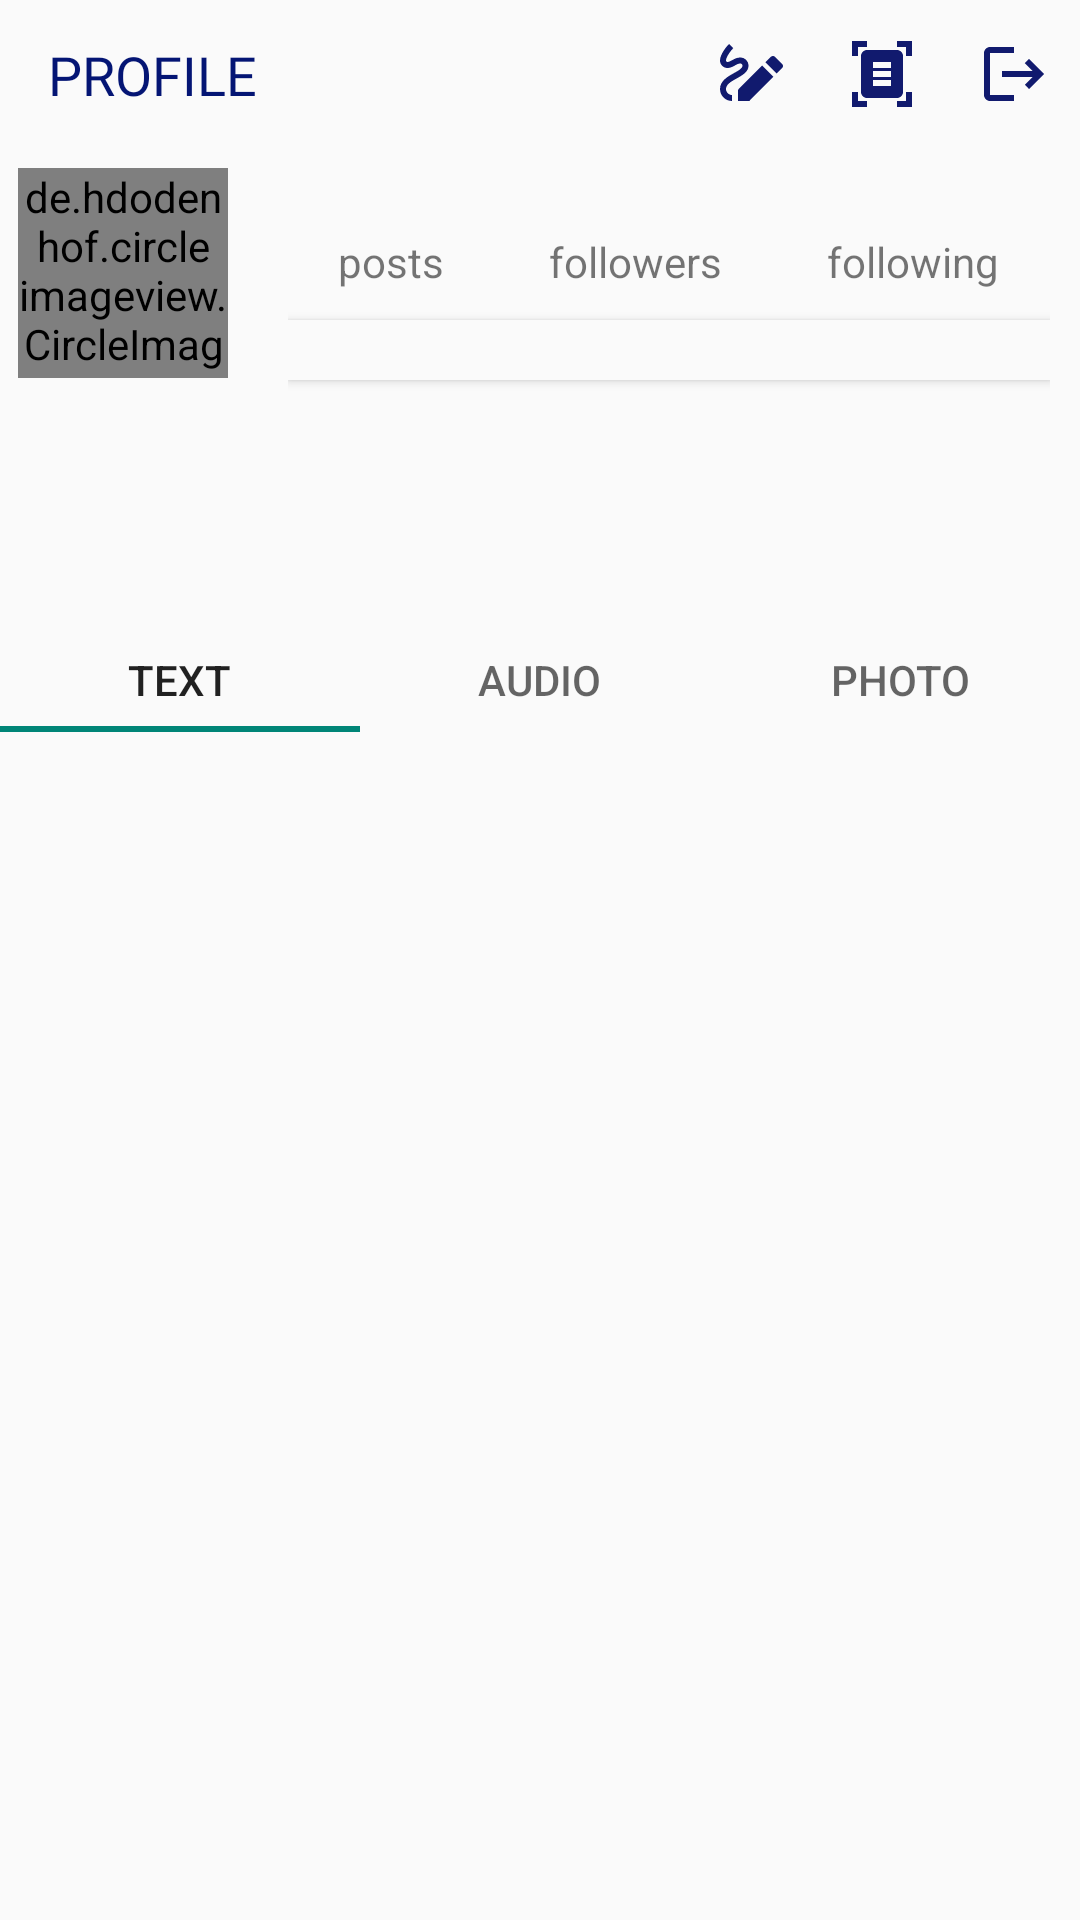

Where icons sit on this 1080w x 1920h app screen, as (x1, y1, x2, y2):
report: (852, 41, 912, 107)
